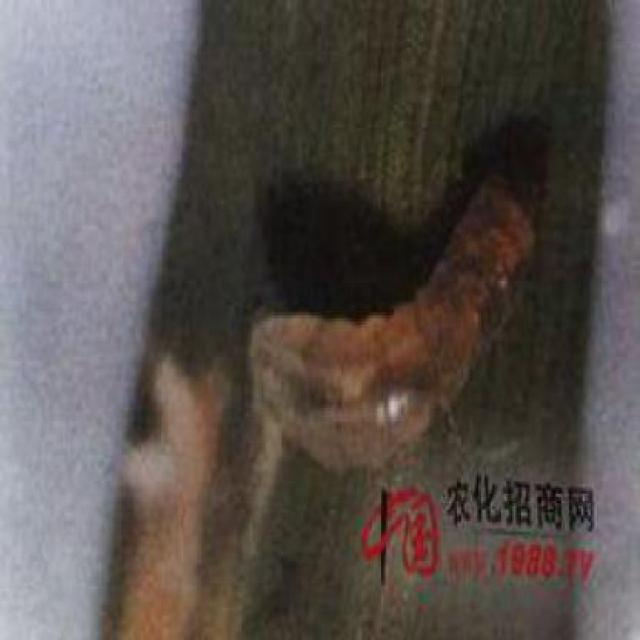whorl-maggot: (242, 164, 542, 468)
